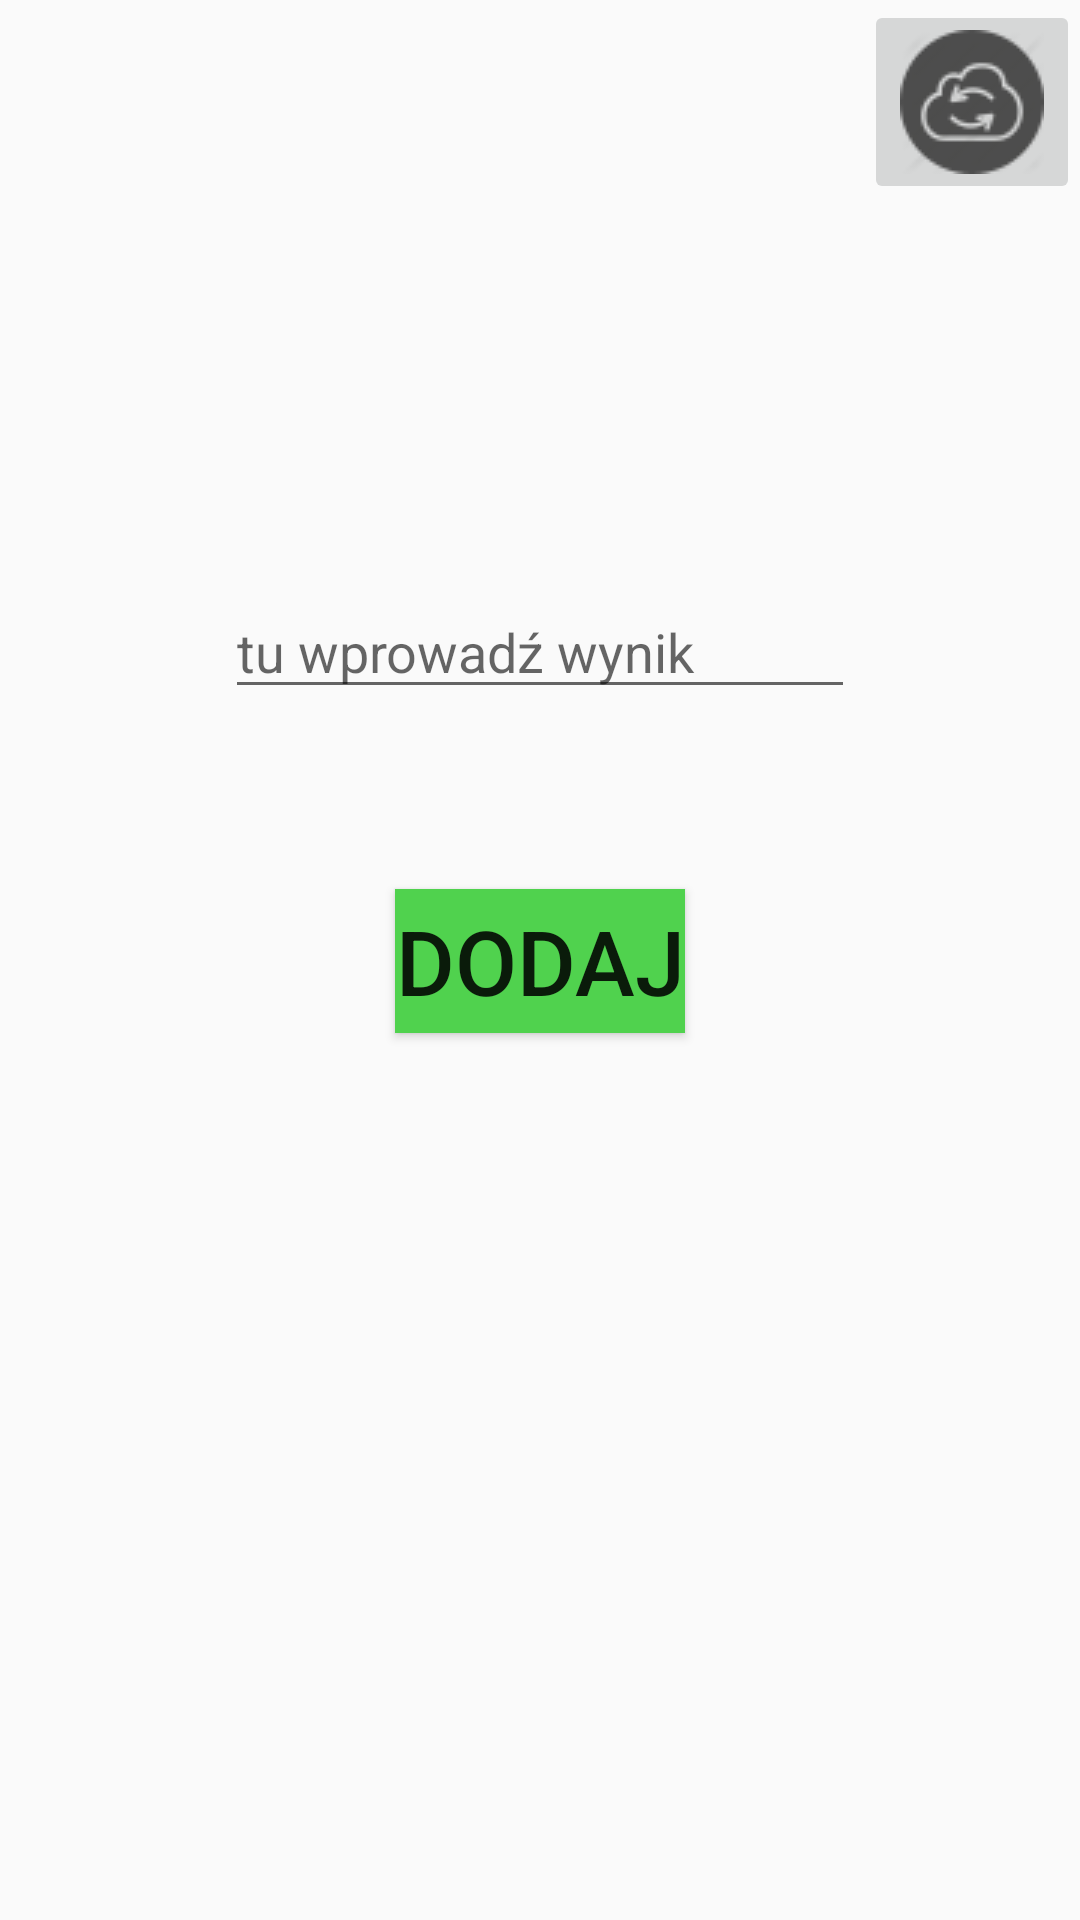

Point at icon controls on the screen. Image size 1080px x 1920px, points as [x,y].
refresh: [972,102]
